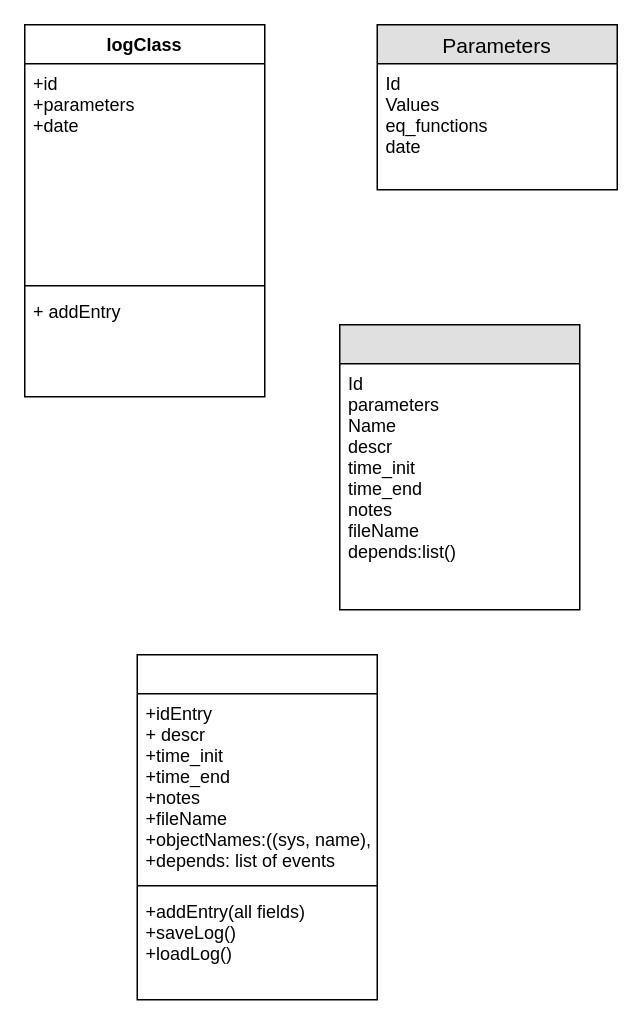
This 642x1025 diagram has some shape labels left out. The box of each missing label's shape, as (x1, y1, x2, y2) in pixels:
log: (338, 323, 580, 610)
logEntry: (136, 653, 377, 1000)
